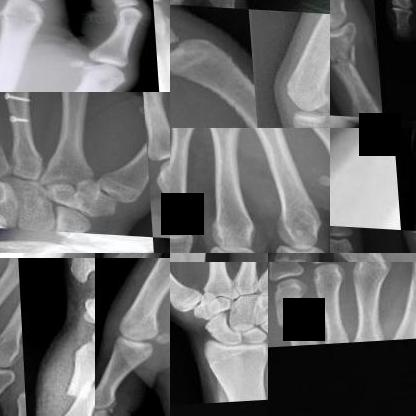fracture: (52, 376, 95, 415), (0, 92, 40, 132), (276, 303, 313, 346), (330, 37, 359, 80), (244, 277, 265, 300), (362, 115, 382, 127)
